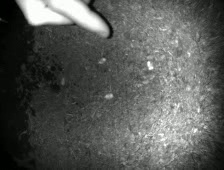corn: (145, 59, 155, 72), (96, 56, 109, 66), (102, 91, 115, 101), (59, 76, 67, 87)
